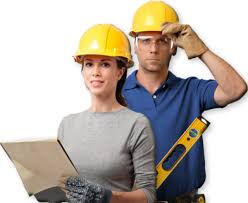Person_wearing_helmet: (122, 0, 193, 44), (70, 21, 130, 69)
